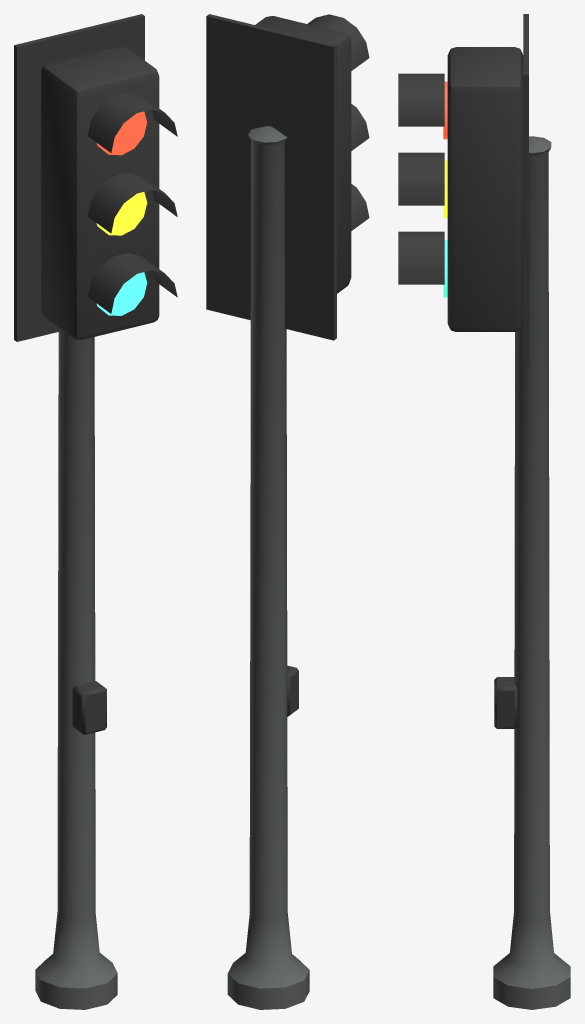
Rendered from traffic_light.glb.
3 views of the same model, side by side, from view 1: azimuth 30°, elevation 25°; view 2: azimuth 150°, elevation 25°; view 3: azimuth 270°, elevation 25° (orthographic).
Parts seen in each view (by area): view 1: TrafficLight; view 2: TrafficLight; view 3: TrafficLight.
Part boxes in pixels (bbox=[...]): TrafficLight: bbox=[14, 14, 177, 1009]; TrafficLight: bbox=[206, 14, 369, 1009]; TrafficLight: bbox=[398, 14, 570, 1009].
Bounding box in the file's own units: 0.5 × 3.6 × 0.5931.
